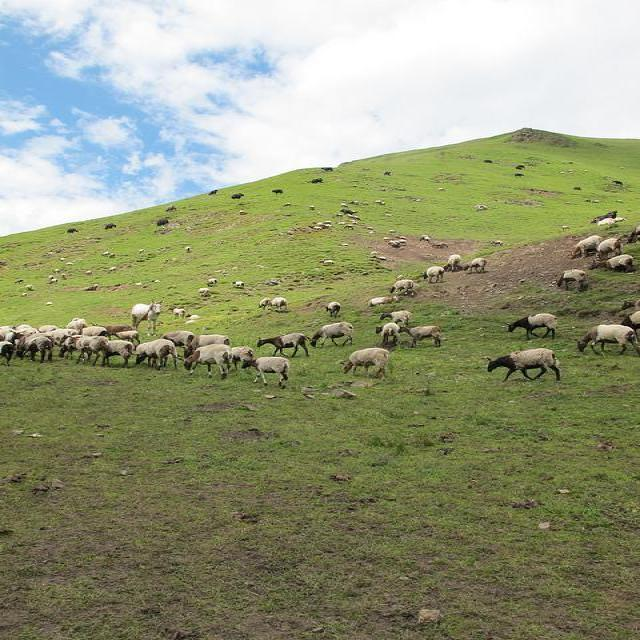Sheep: (0, 195, 625, 387), (487, 349, 561, 384), (180, 344, 232, 380), (342, 348, 389, 382)
